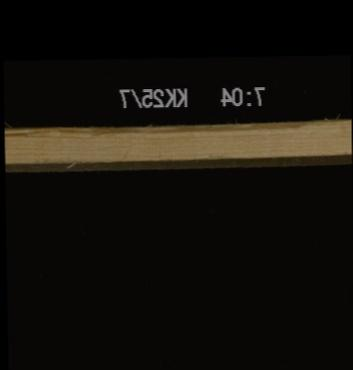split: (4, 125, 46, 139)
wave: (57, 122, 307, 139)
